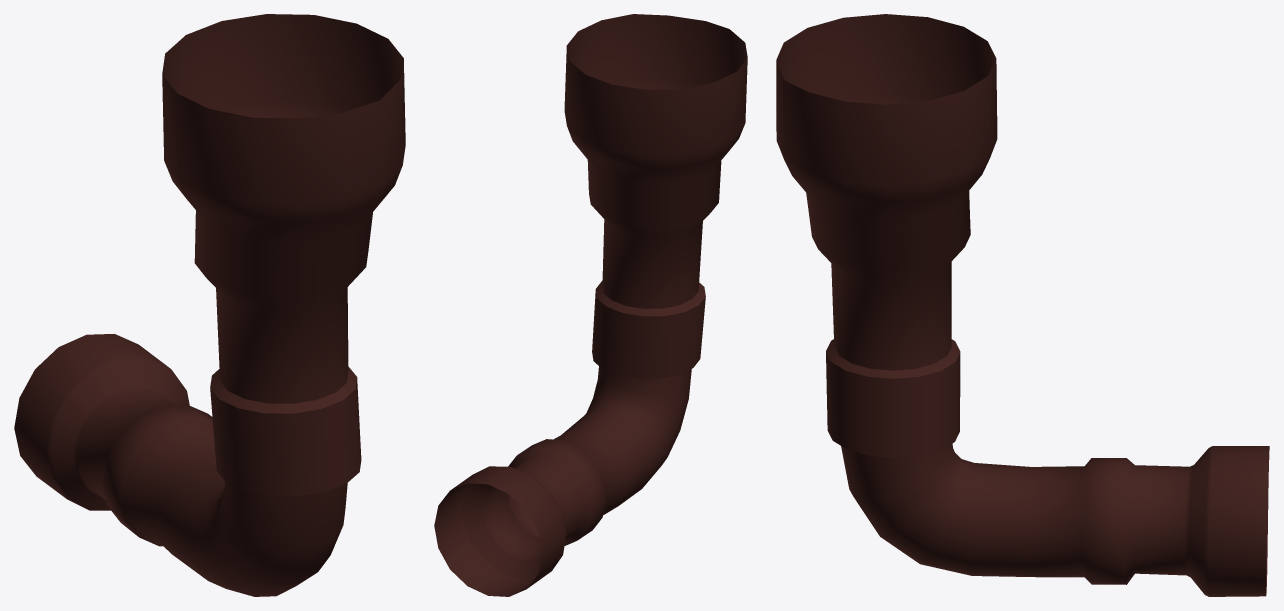
Rendered from sc_FeiTu_mesh_zhalan15.FBX.
3 views of the same model, side by side, from view 1: azimuth 30°, elevation 25°; view 2: azimuth 150°, elevation 25°; view 3: azimuth 270°, elevation 25° (orthographic). The views are drawn at different scales.
Parts seen in each view (by area): view 1: mesh_zhalan15; view 2: mesh_zhalan15; view 3: mesh_zhalan15.
Part boxes in pixels (box(x1,y1,x2,y2)): mesh_zhalan15: box(14, 14, 405, 596); mesh_zhalan15: box(434, 14, 747, 596); mesh_zhalan15: box(776, 14, 1269, 596).
Size of the model in its own units: 55.63 by 144 by 123.
